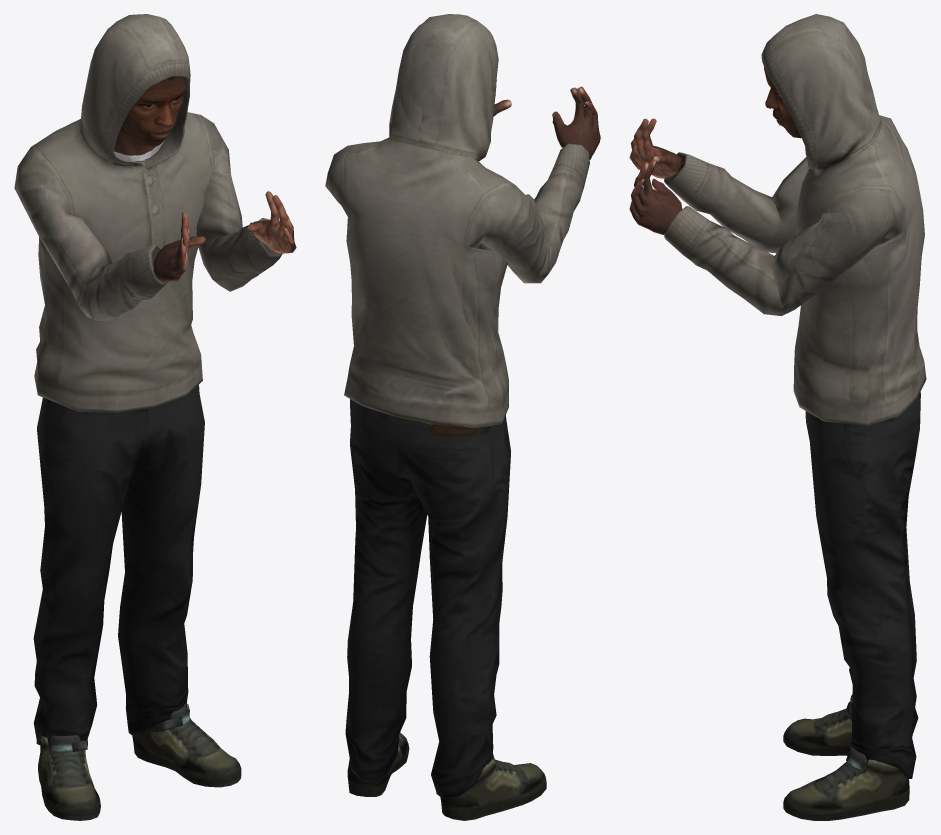
The model's file is crew-operator.glb.
3 renders of one model, left to right at view 1: azimuth 30°, elevation 25°; view 2: azimuth 150°, elevation 25°; view 3: azimuth 270°, elevation 25°, orthographic. The views are drawn at different scales.
Parts seen in each view (by area): view 1: crew-operator-mesh; view 2: crew-operator-mesh; view 3: crew-operator-mesh.
Part boxes in pixels (x1=…): crew-operator-mesh: x1=14, y1=14, x2=296, y2=820; crew-operator-mesh: x1=325, y1=14, x2=600, y2=820; crew-operator-mesh: x1=629, y1=14, x2=926, y2=820.
Size of the model in its own units: 0.4886 by 1.8 by 0.638.
2 materials, 2 textured.
